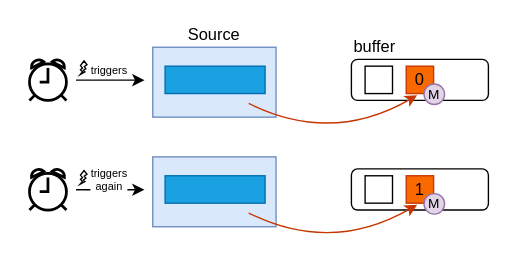
The diagram is 512 pixels wide and 256 high, and some of its shapes have lost their labels. Each missing label, with the centre of its shape:
counter = 0: point 214,79
counter = 1: point 214,188
periodic timer: point 47,79
